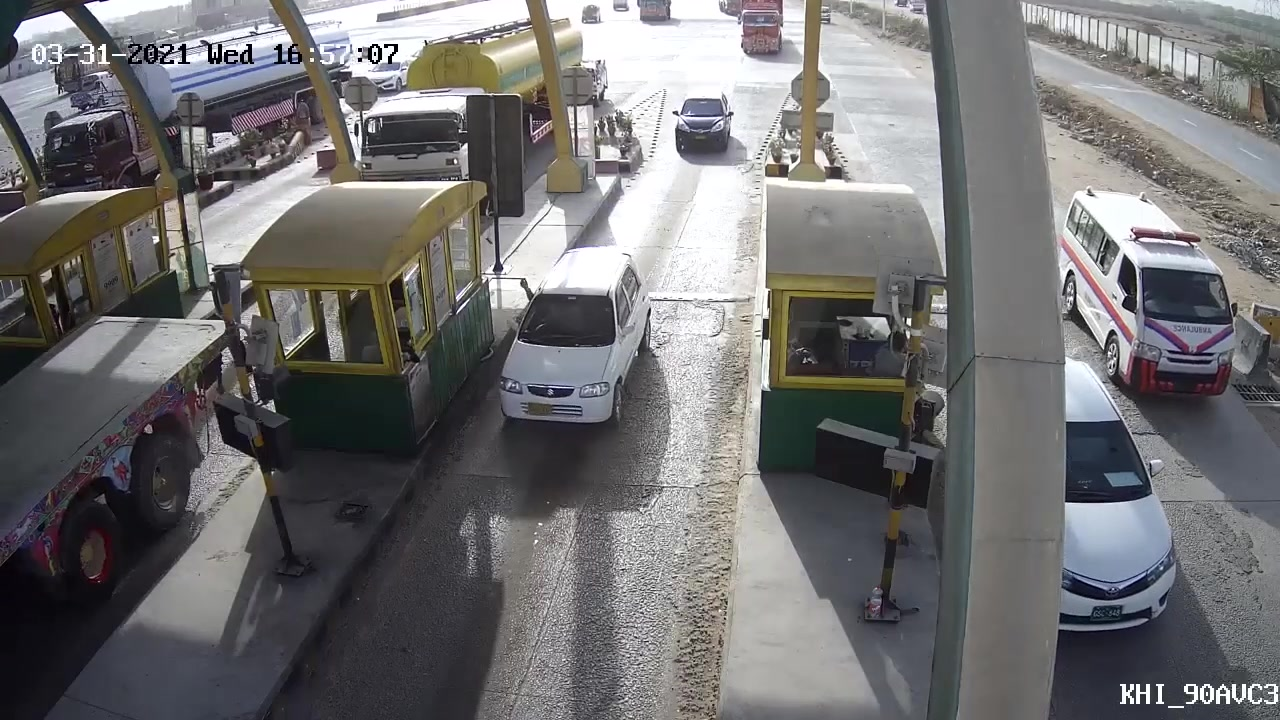F1: (489, 244, 657, 433)
